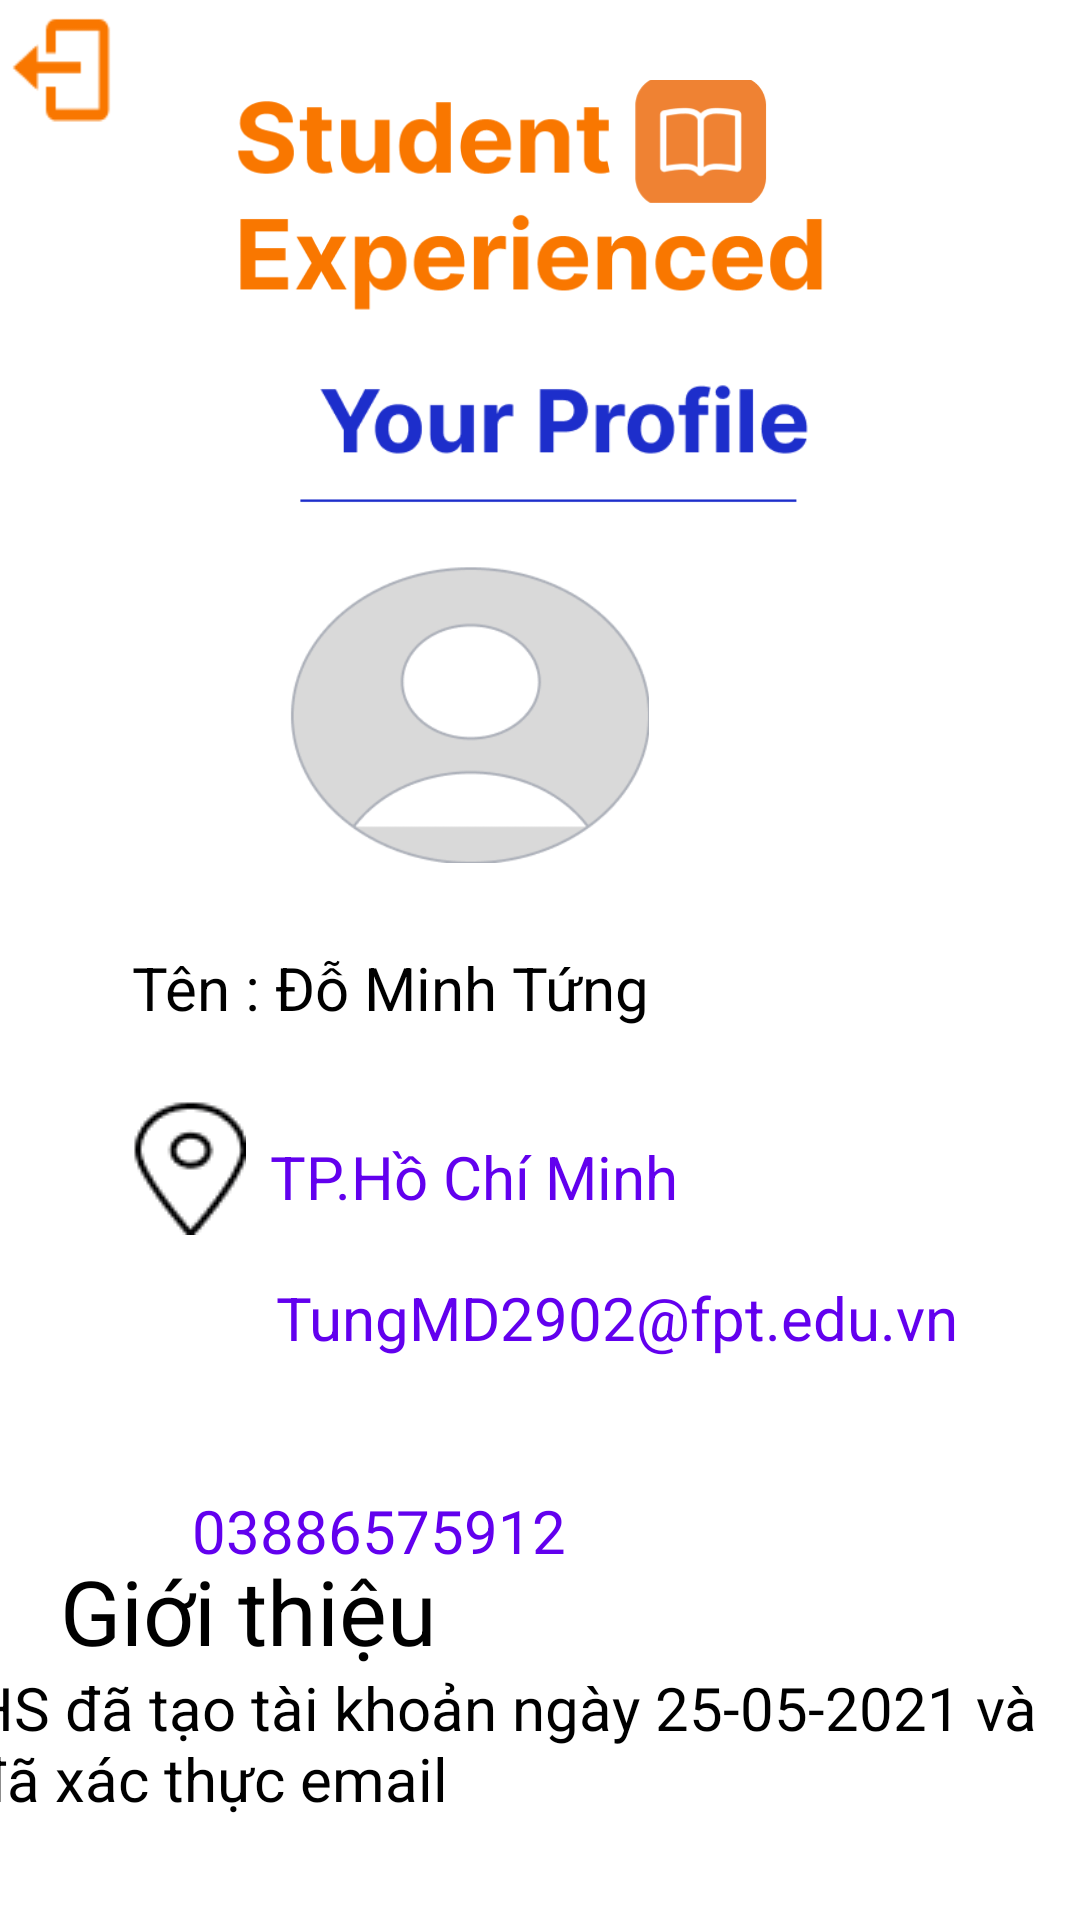

Icons on this 1080w x 1920h Android screen, each with its box as region(x1, y1, x2, y2):
account: region(291, 567, 649, 863)
exit: region(13, 19, 110, 122)
location: region(134, 1102, 246, 1235)
